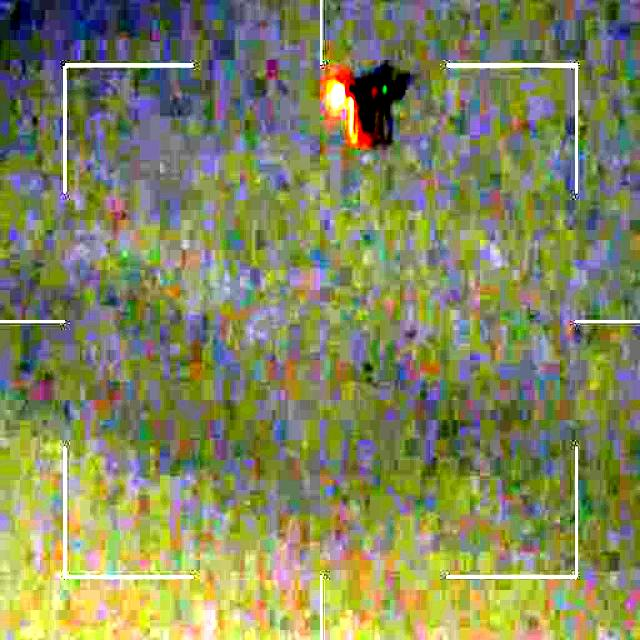bird: (321, 58, 410, 148)
